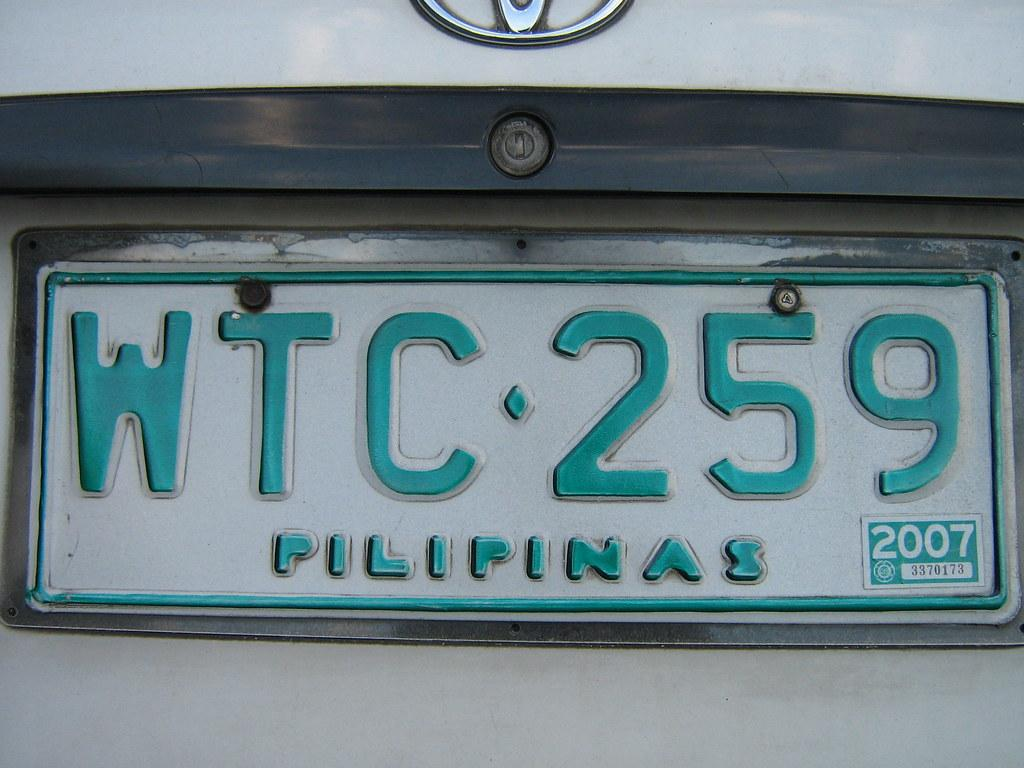plate: (48, 268, 1015, 620)
